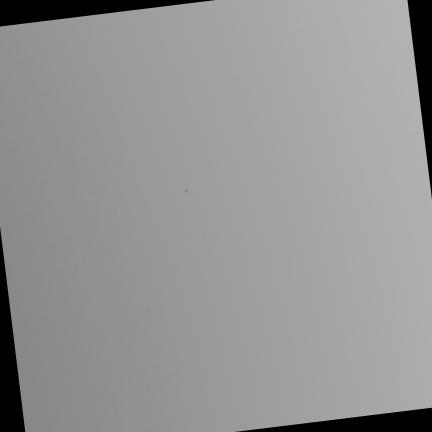Shahed: (184, 188, 188, 192)
